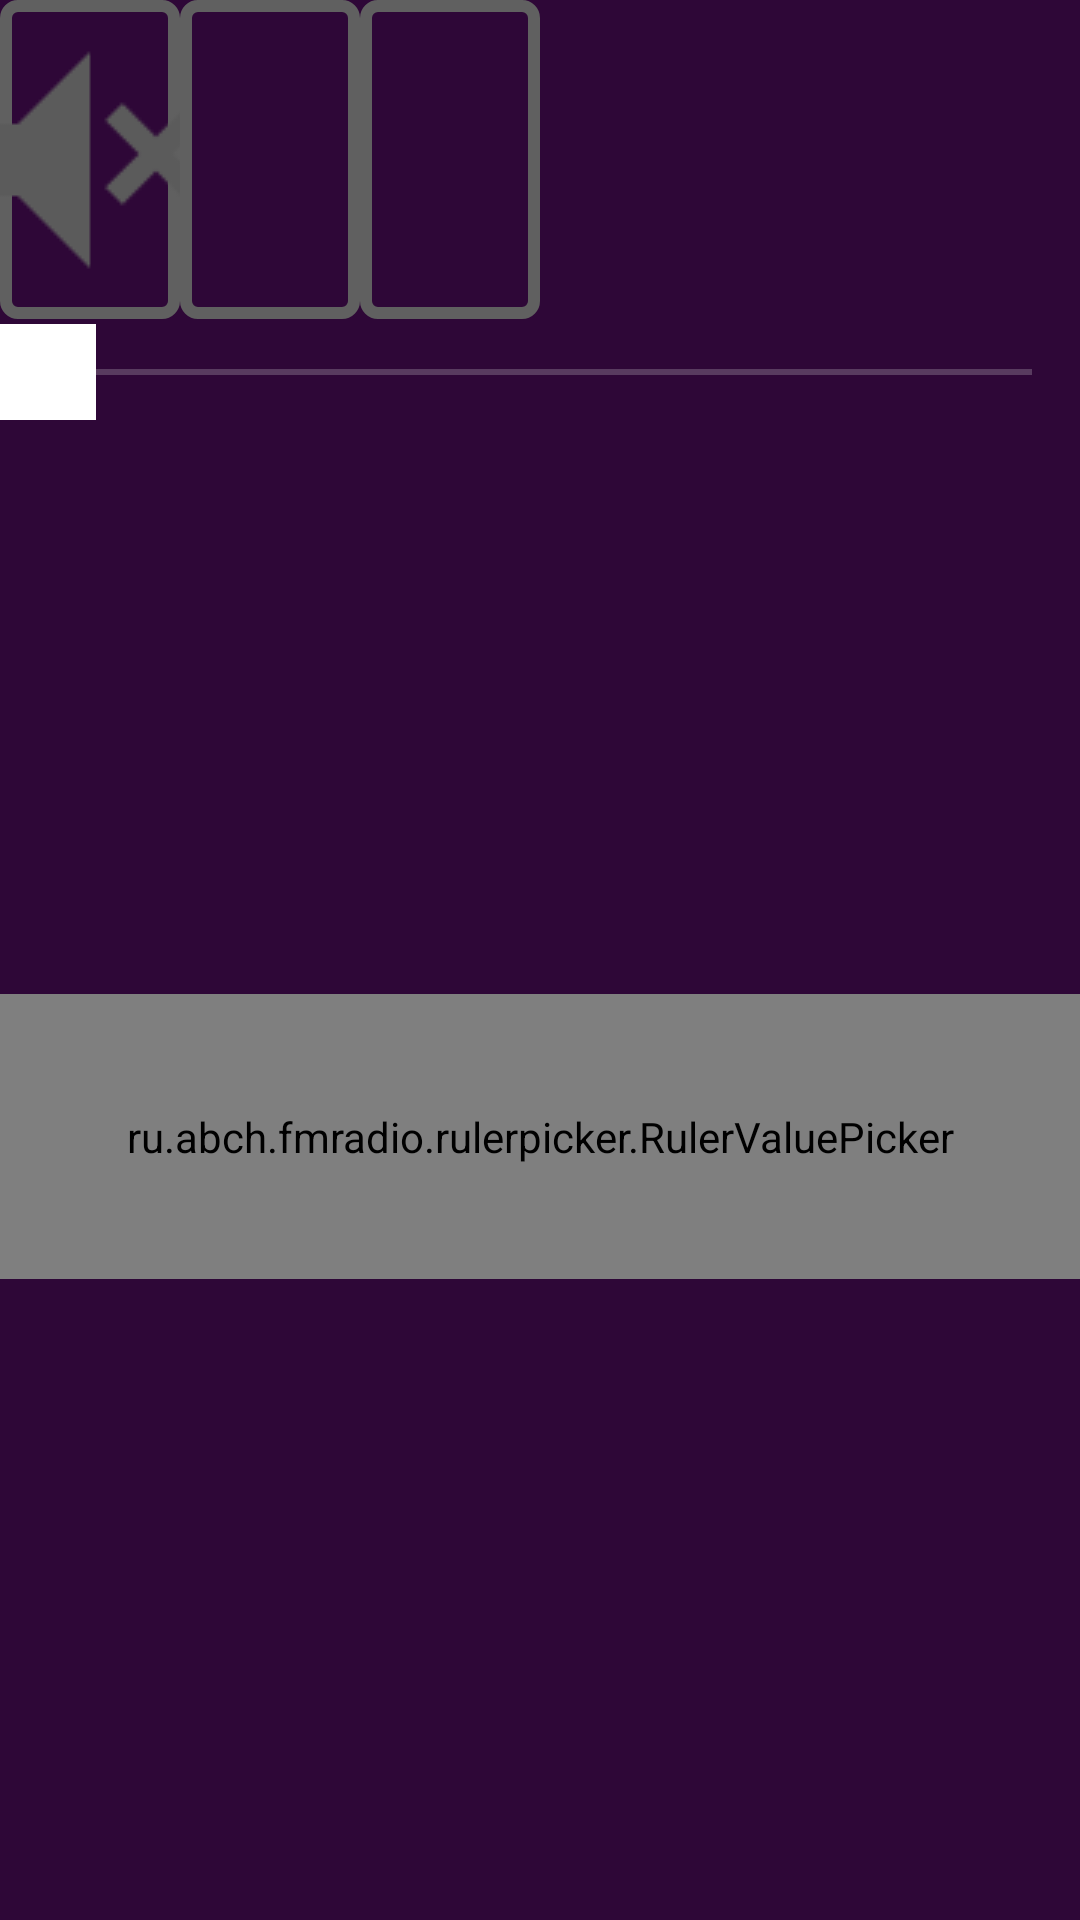

Named icons in this screenshot (1080px×1920px) and their centers, (x,y):
mute: (90,159)
